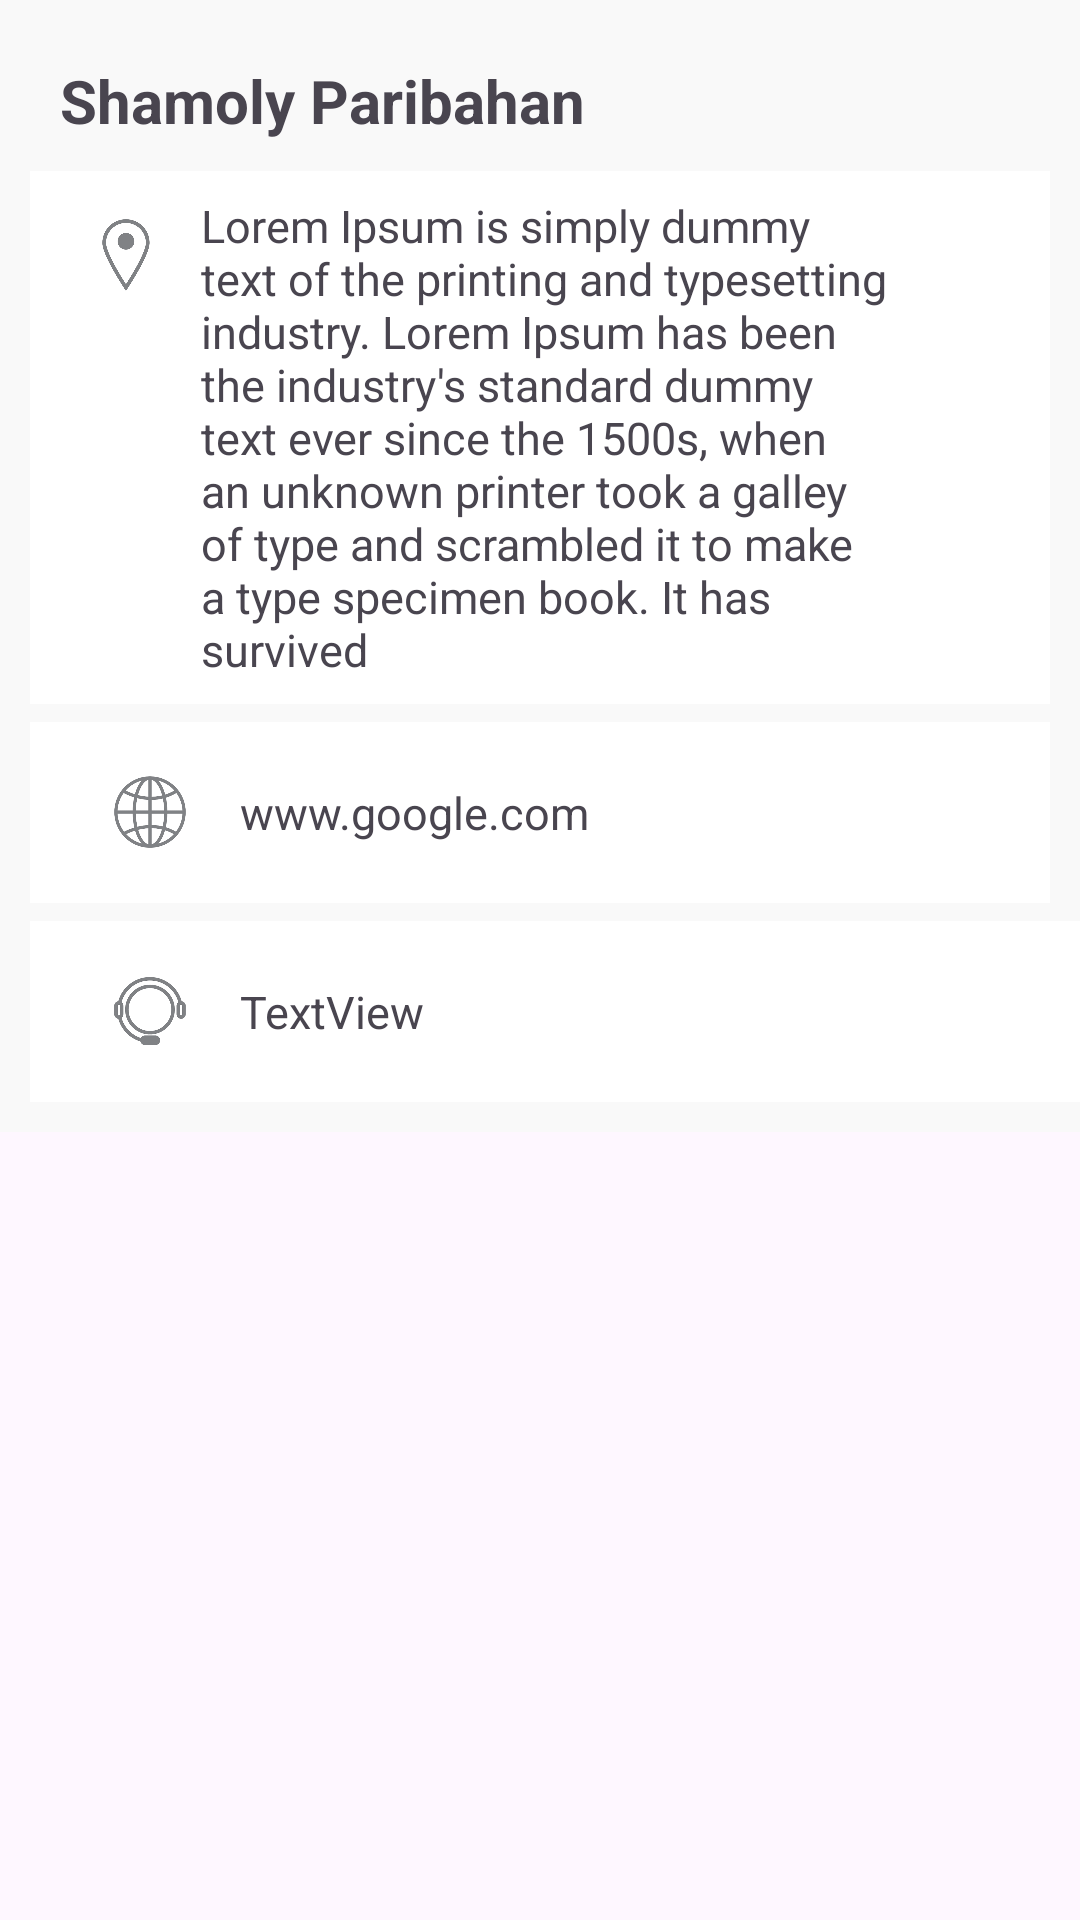

Icon click points for this 1080 × 1920 phone screenshot, format [x,y]:
hotlineico: [150,1011]
locationico: [126,254]
webico: [150,812]
